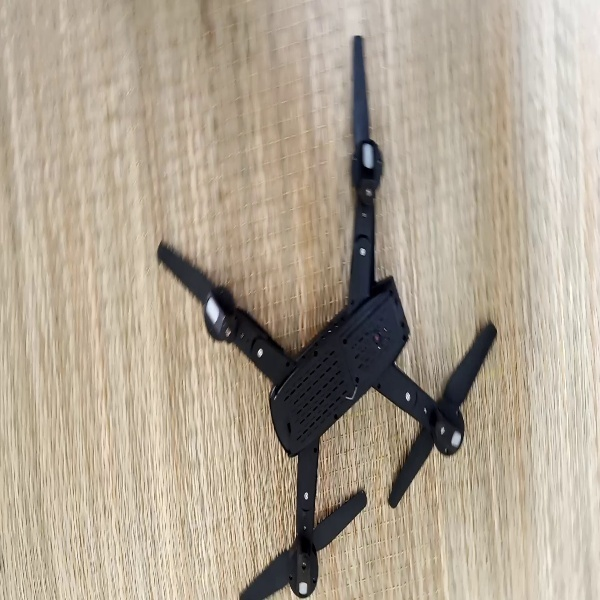drone: (151, 28, 505, 600)
